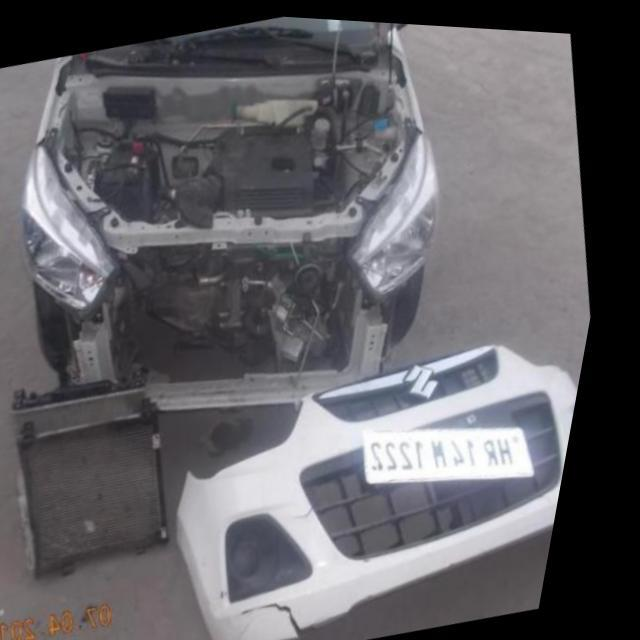no part: (43, 193, 432, 405)
